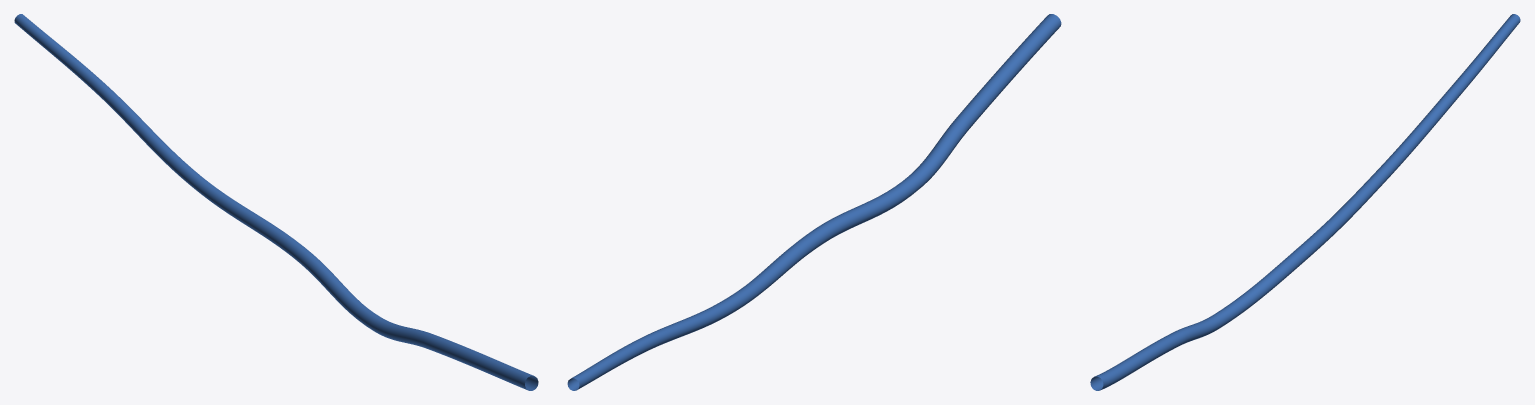
The picture shows the model from 3 angles, left to right: view 1: azimuth 30°, elevation 25°; view 2: azimuth 150°, elevation 25°; view 3: azimuth 330°, elevation 25°; orthographic projection. The views are drawn at different scales.
Visible parts, largest first — view 1: 右侧腹壁上静脉; view 2: 右侧腹壁上静脉; view 3: 右侧腹壁上静脉.
Part boxes in pixels (x1,y1,x2,y2): 右侧腹壁上静脉: (14, 14, 538, 390); 右侧腹壁上静脉: (567, 14, 1061, 390); 右侧腹壁上静脉: (1090, 14, 1520, 390).
Bounding box in the file's own units: 0.0137 × 0.0211 × 0.2309.
